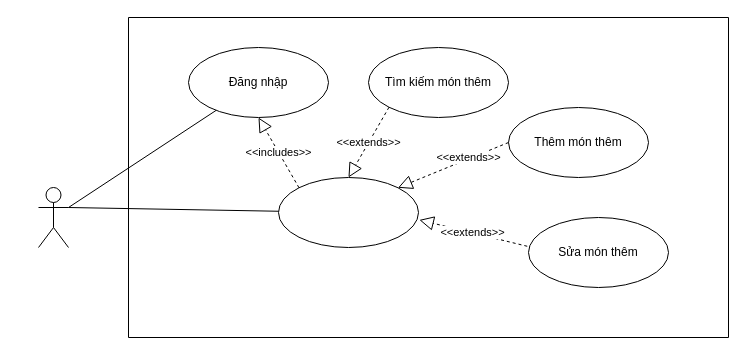
Image size: 747x356. Some labels were removed from this diagram. The centre of each missing label's shape, as x and y in pixels:
Nhân viên QL: (53,217)
Quản lý món thêm: (348,212)
